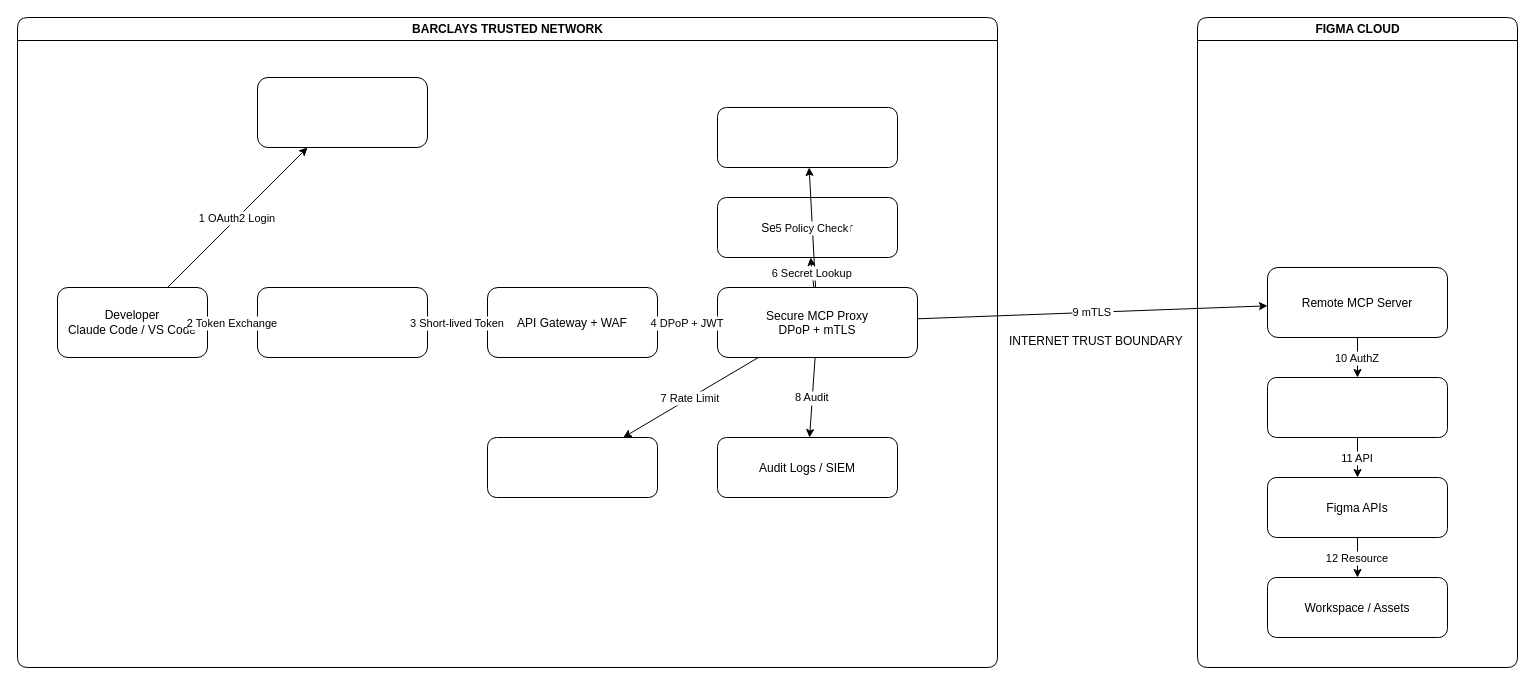
Image size: 1535x685. Some labels were removed from this diagram. Here are the shapes that lost their labels. From the top down, the centre of each, then its label:
(x=342, y=112): Microsoft Entra ID
(x=807, y=137): OPA Policy Engine
(x=342, y=322): RFC8693 Token Broker
(x=1357, y=407): Figma Authorization
(x=572, y=467): Rate Limiter
